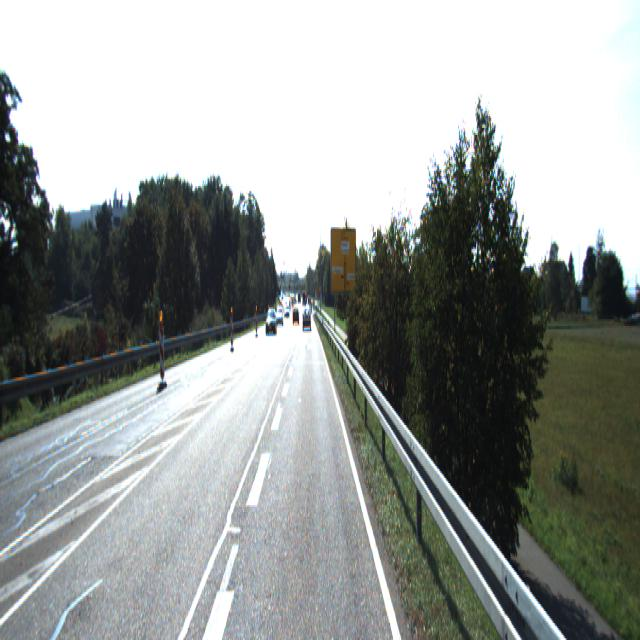Car: (266, 308, 277, 335), (303, 306, 311, 328)
